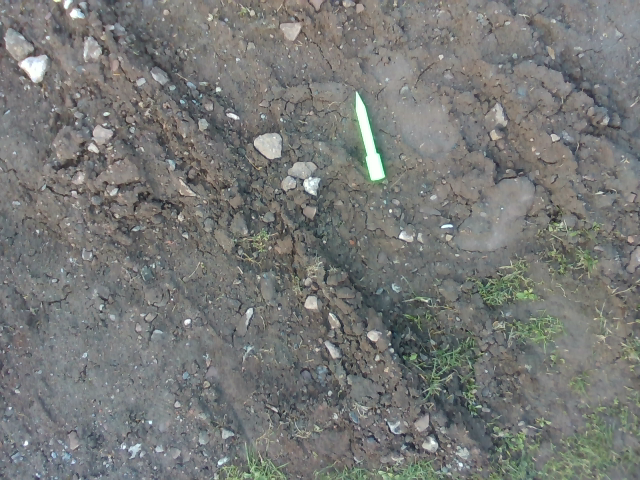Probe: (352, 87, 390, 186)
